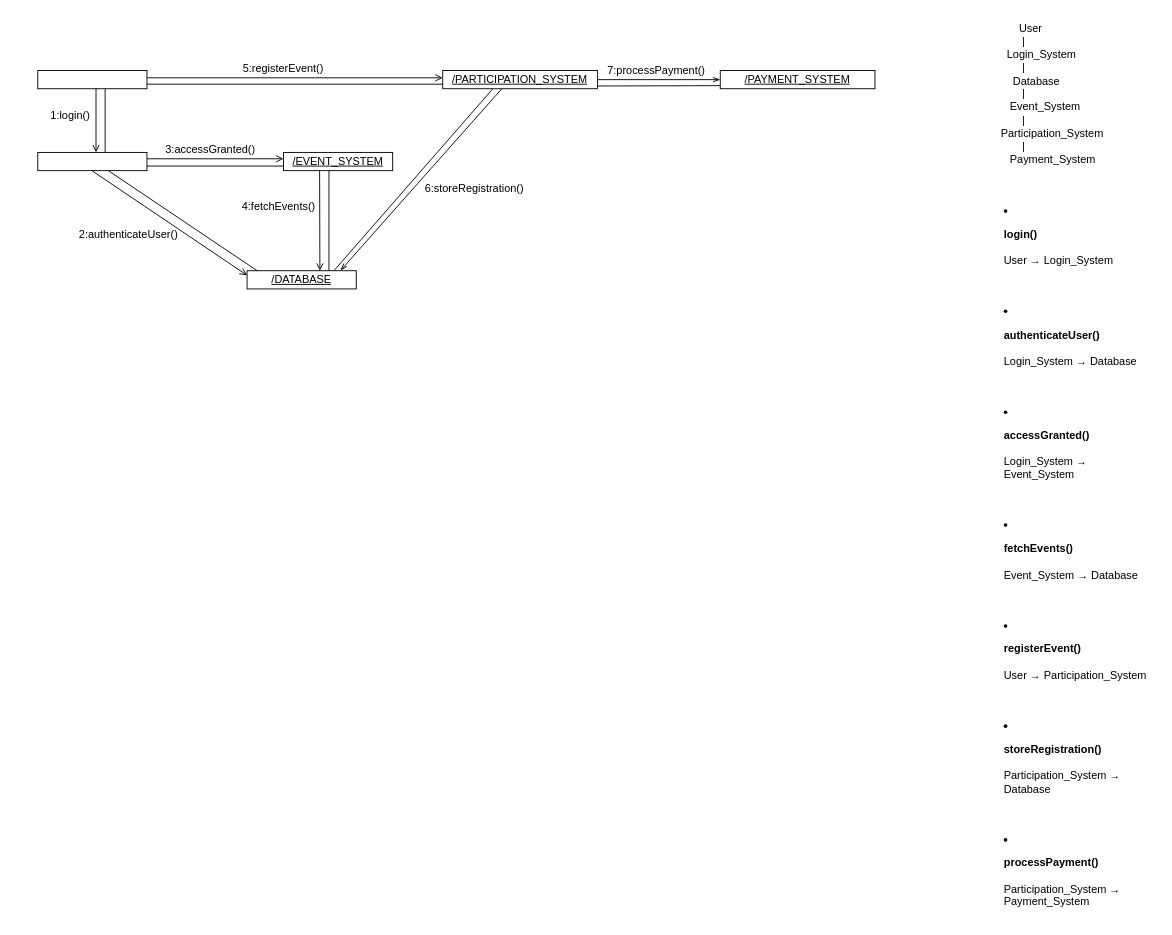
The diagram is 1172 pixels wide and 935 high, and some of its shapes have lost their labels. The box of each missing label's shape, as (x1, y1, x2, y2) in pixels:
/LOGIN_SYSTEM: (37, 152, 147, 171)
/STUDENT&STAFF: (37, 70, 147, 89)
